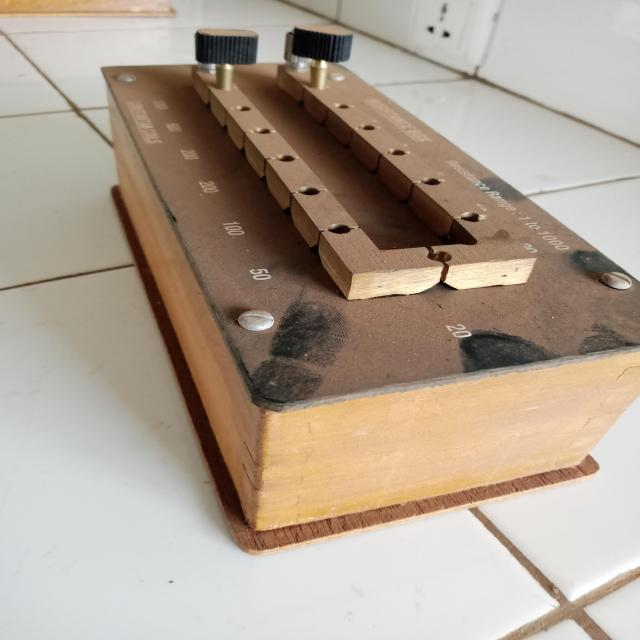Pinned Resistance Box: (83, 14, 640, 556)
